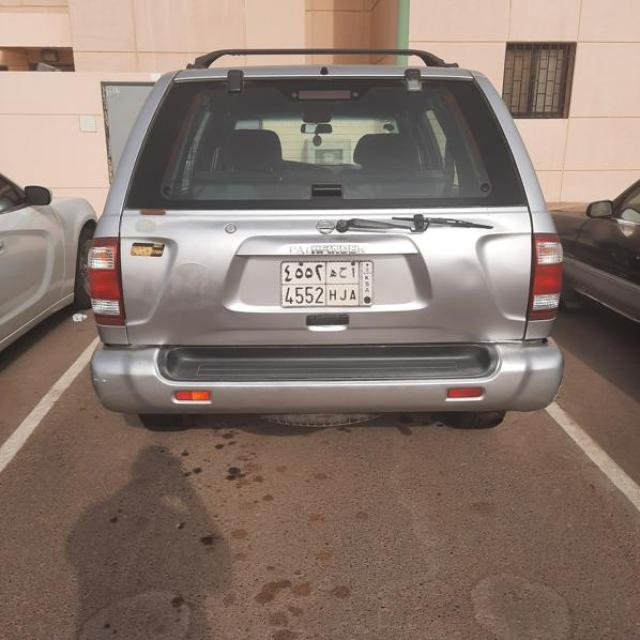license_plate: (282, 260, 372, 306)
